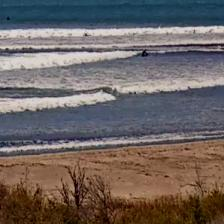surfer: (140, 50, 148, 57), (6, 16, 11, 22)
